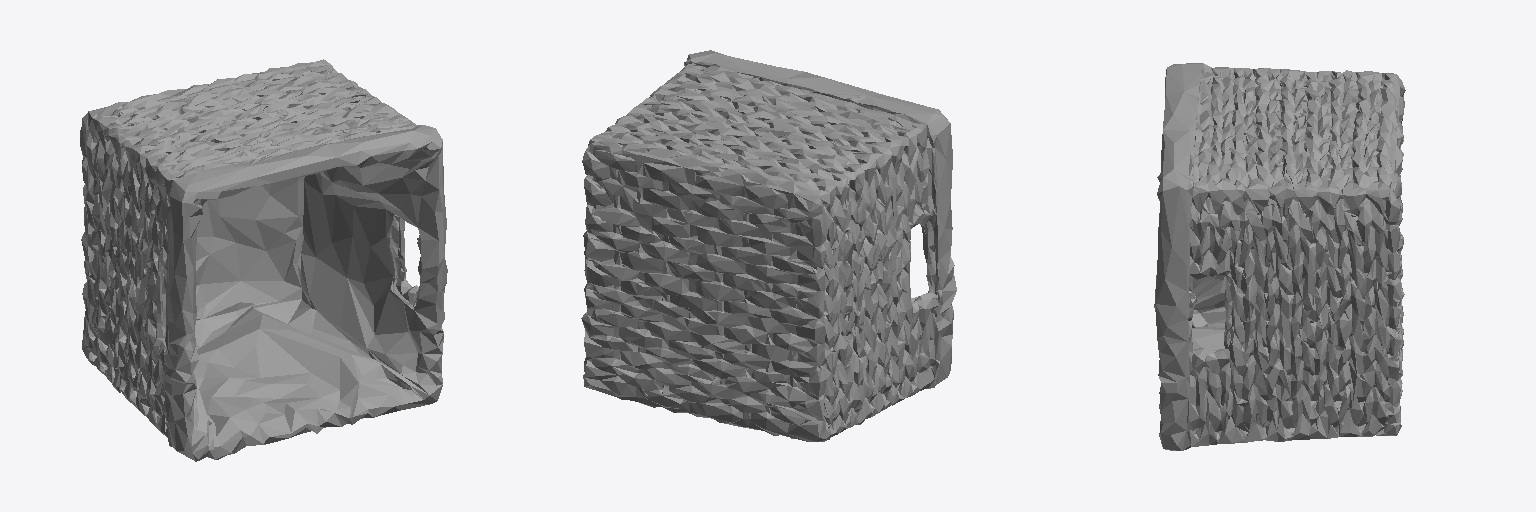
Rendered from model_ZU6u5fvE8Z1.obj.
3 views of the same model, side by side, from view 1: azimuth 30°, elevation 25°; view 2: azimuth 150°, elevation 25°; view 3: azimuth 270°, elevation 25° (orthographic).
Visible parts, largest first — view 1: model; view 2: model; view 3: model.
Part boxes in pixels (bbox=[...]): model: bbox=[80, 59, 447, 461]; model: bbox=[581, 50, 956, 441]; model: bbox=[1154, 63, 1405, 450].
Bounding box in the file's own units: 0.2715 × 0.269 × 0.2189.